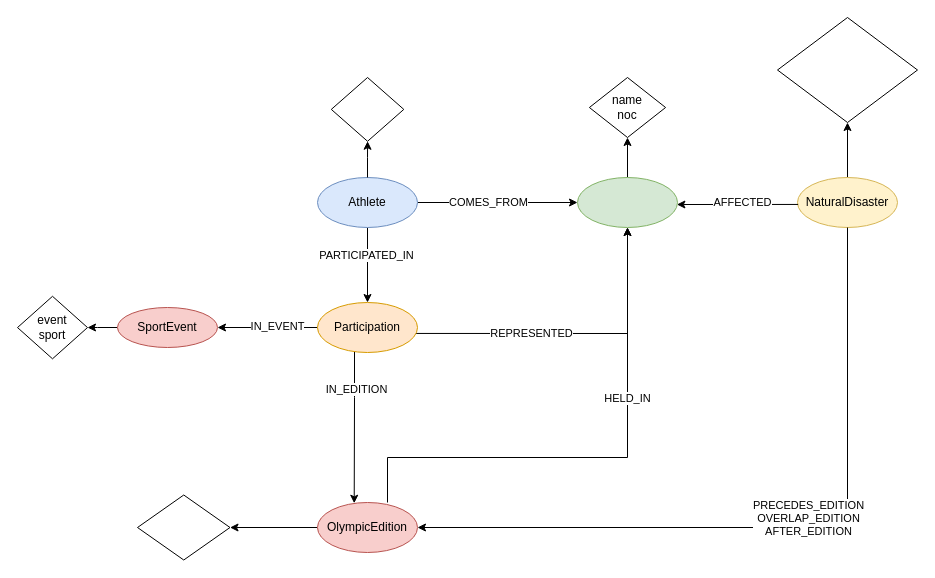
This 935x578 diagram has some shape labels left out. Here are the shapes that lost their labels. From the top down, the box of each, then its label:
(776, 16, 918, 122): group type location start_date end_date
(330, 76, 404, 141): name gender
(576, 176, 678, 228): Country
(136, 494, 230, 560): start_date end_date
